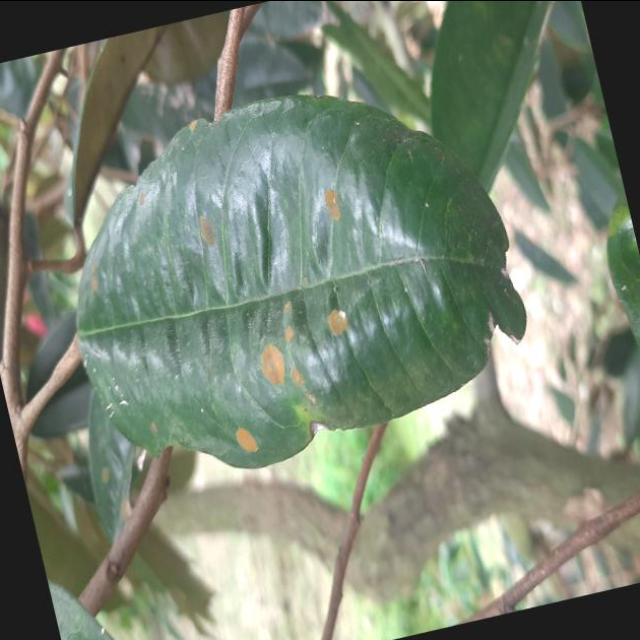Algal Leaf Spot: (22, 40, 554, 498)
